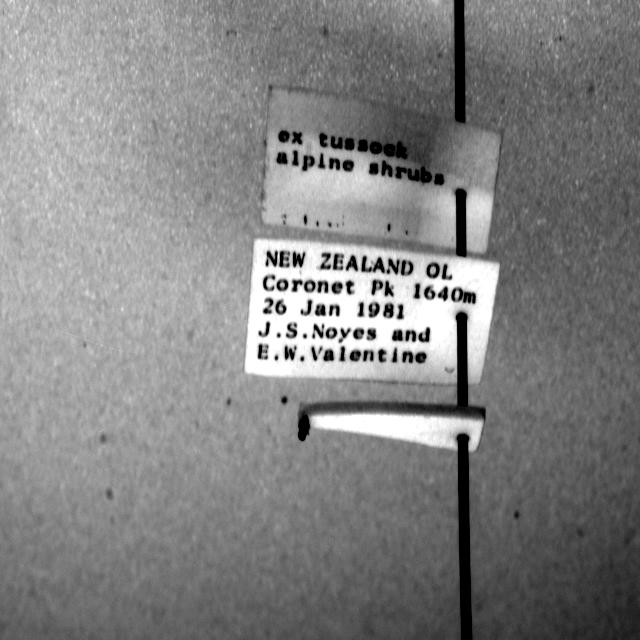typed_label: (261, 86, 501, 253), (245, 238, 499, 384)
